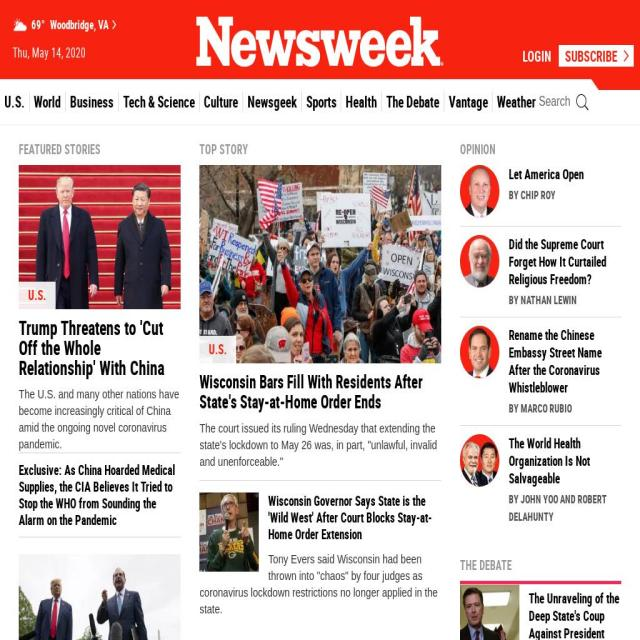button: (199, 165, 442, 363), (19, 165, 181, 310), (19, 554, 181, 640), (196, 17, 444, 66), (200, 492, 260, 572), (460, 584, 520, 640), (460, 434, 500, 487), (460, 165, 500, 217), (460, 235, 500, 287), (460, 326, 500, 378), (558, 45, 634, 67), (119, 92, 200, 112), (382, 92, 444, 112), (243, 92, 301, 112), (66, 92, 118, 112), (443, 92, 492, 112), (492, 92, 540, 112), (199, 92, 243, 112), (341, 92, 382, 112), (301, 92, 341, 112), (30, 92, 66, 112), (522, 45, 552, 67), (0, 91, 29, 111)
field: (539, 79, 576, 124)
heading: (199, 371, 423, 412), (19, 317, 164, 378), (268, 492, 433, 542)
image: (199, 165, 442, 363), (19, 165, 181, 310), (19, 554, 181, 640), (196, 17, 444, 66), (445, 584, 534, 640), (200, 492, 260, 572), (460, 434, 500, 487), (460, 165, 500, 217), (460, 235, 500, 287), (460, 326, 500, 378), (12, 16, 28, 36), (112, 20, 116, 29)
label: (576, 94, 589, 111)
link: (460, 142, 496, 640), (19, 460, 175, 530), (508, 325, 602, 397), (508, 234, 606, 288), (528, 587, 619, 640), (508, 433, 590, 488), (508, 164, 584, 183), (459, 556, 512, 574), (208, 338, 228, 358), (28, 285, 46, 305)
text: (199, 550, 442, 618), (199, 419, 442, 470), (19, 386, 181, 453), (12, 38, 320, 67), (199, 143, 442, 165), (508, 490, 621, 525), (19, 143, 181, 165), (508, 399, 621, 417), (508, 186, 621, 203), (508, 291, 621, 308), (50, 16, 112, 32), (27, 16, 45, 32)
